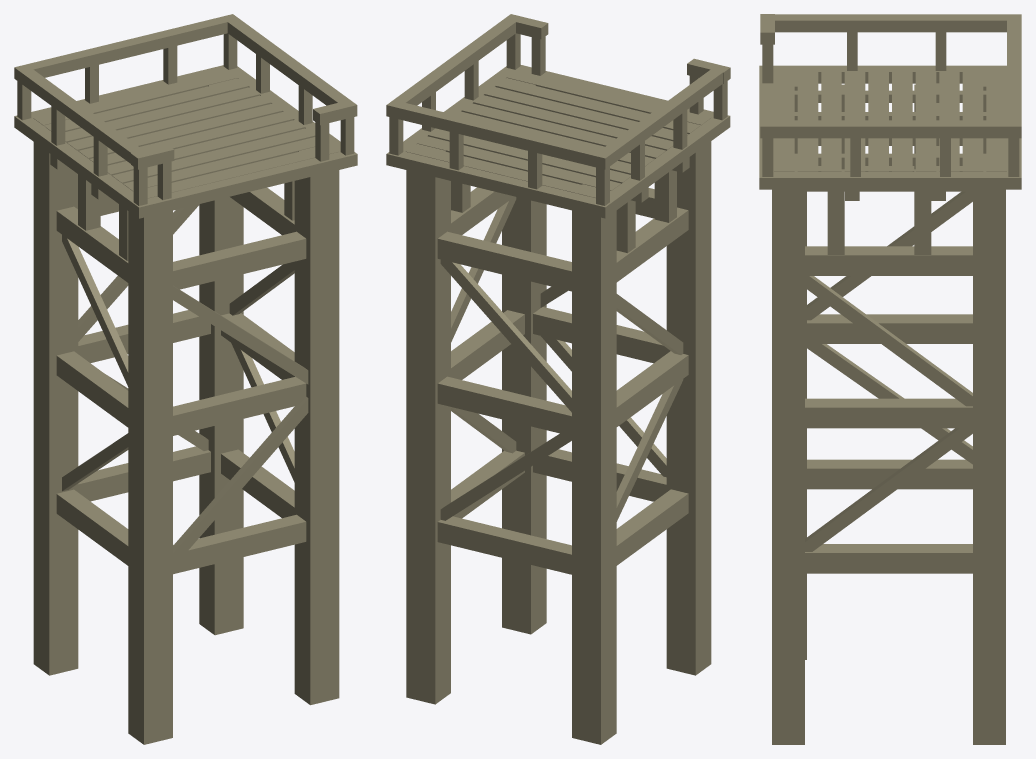
File: startRough3.fbx
3 renders of one model, left to right at view 1: azimuth 30°, elevation 25°; view 2: azimuth 150°, elevation 25°; view 3: azimuth 270°, elevation 25°, orthographic. The views are drawn at different scales.
Visible parts, largest first — view 1: pCube69; view 2: pCube69; view 3: pCube69.
Part boxes in pixels (<box>): pCube69: <box>14,14,357,744</box>; pCube69: <box>386,14,730,744</box>; pCube69: <box>759,14,1021,744</box>.
Size of the model in its own units: 90.27 by 234 by 89.
